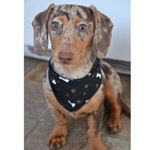puppy: (30, 2, 132, 150)
